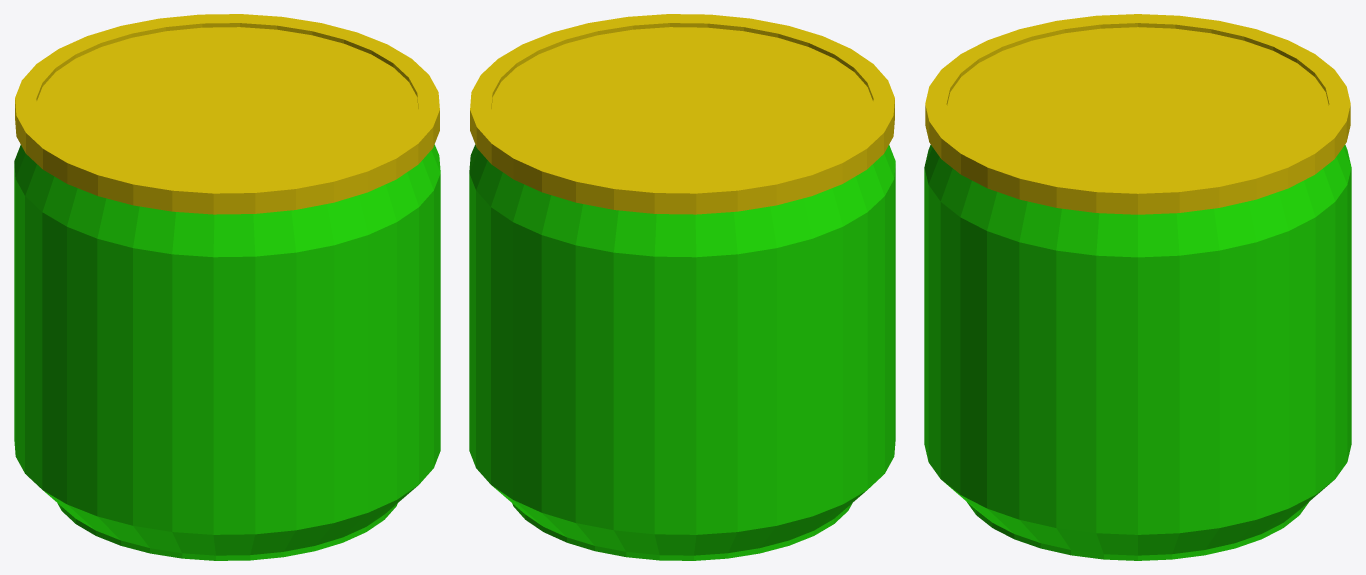
File: jar_001.fbx
3 views of the same model, side by side, from view 1: azimuth 30°, elevation 25°; view 2: azimuth 150°, elevation 25°; view 3: azimuth 270°, elevation 25° (orthographic).
Parts seen in each view (by area): view 1: bocal.001; view 2: bocal.001; view 3: bocal.001.
Boxes of the visible parts, left/top/right/bottom form: bocal.001: left=14, top=14, right=440, bottom=560; bocal.001: left=469, top=14, right=895, bottom=560; bocal.001: left=924, top=14, right=1351, bottom=560.
Size of the model in its own units: 45.56 by 45.09 by 45.56.
